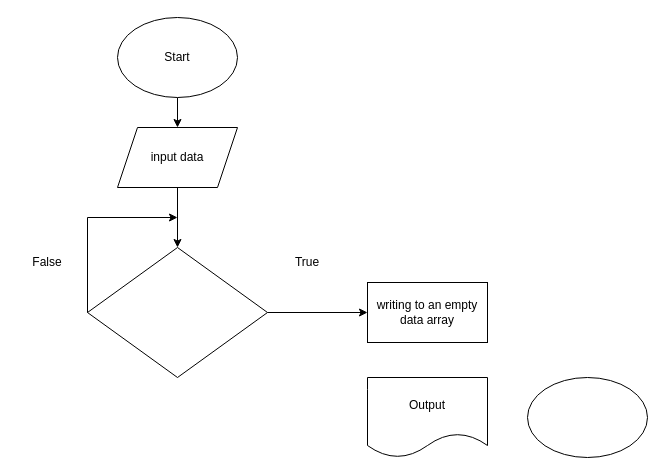
Some shapes in this 665 by 475 pixel diagram are drawn without their labels. Here are the shapes that lost their labels. From the top down, the centre of each, then its label:
At [177,312]: "3 or less than a character?".
At [587,417]: "Finish".
